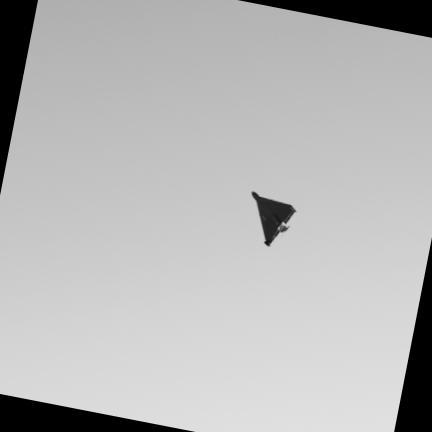Shahed: (252, 192, 295, 246)
